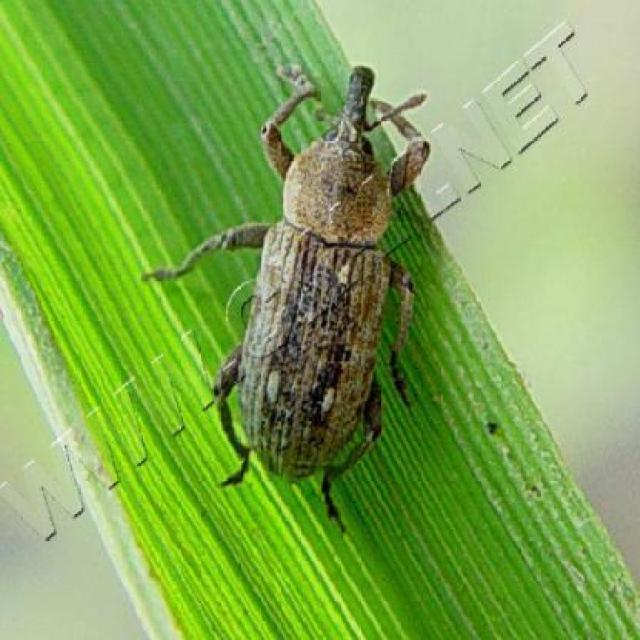rice-bug: (192, 68, 434, 494)
